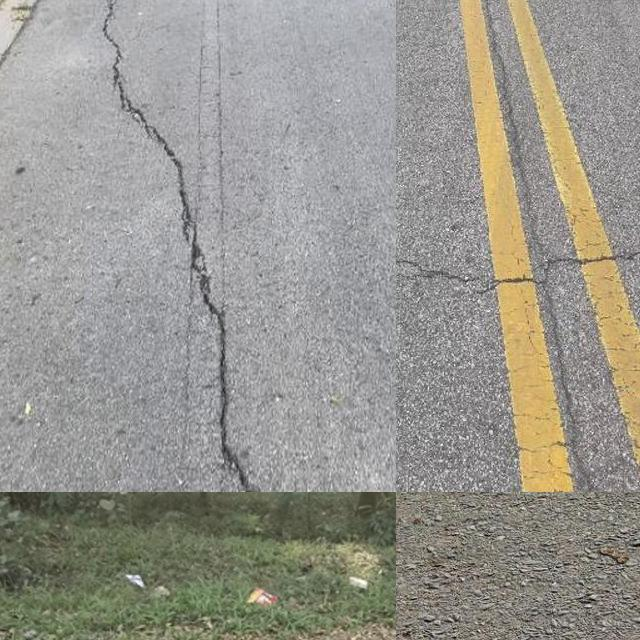Melintang: (396, 235, 640, 304)
Memanjang: (92, 0, 270, 492)
